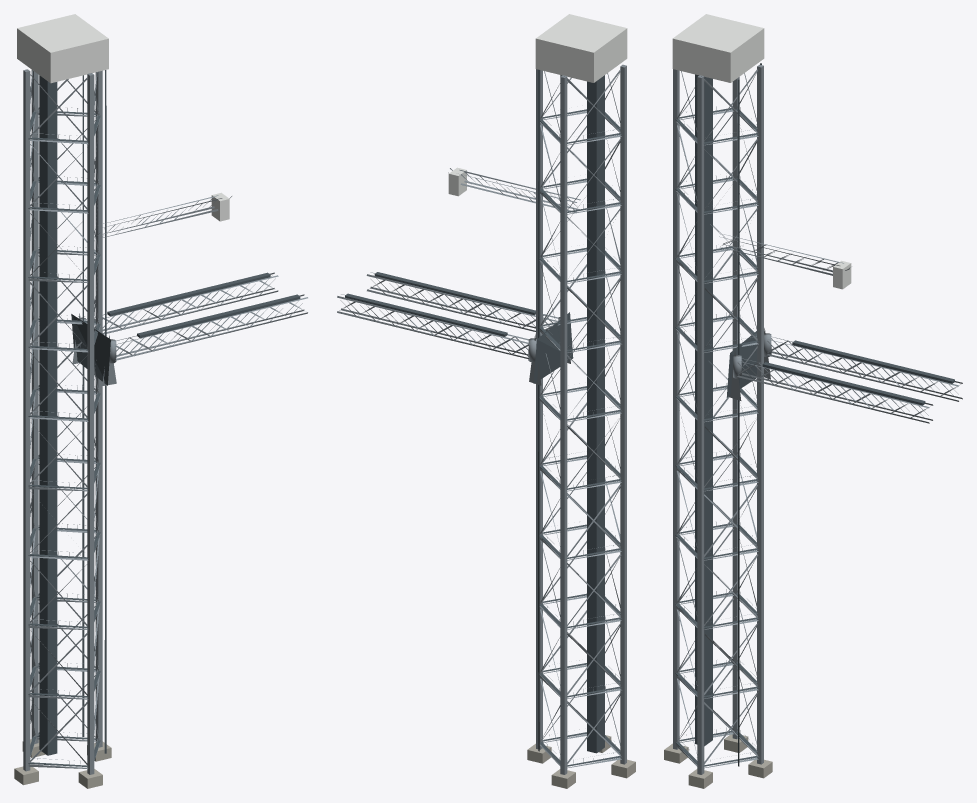
File: tower_b_lod1.glb
3 views of the same model, side by side, from view 1: azimuth 30°, elevation 25°; view 2: azimuth 150°, elevation 25°; view 3: azimuth 330°, elevation 25° (orthographic).
Visible parts, largest first — view 1: TowerStructure, ArmTruss_R, ArmTruss_L, CarriageFrame, QDTruss; view 2: TowerStructure, ArmTruss_L, ArmTruss_R, CarriageFrame, QDTruss; view 3: TowerStructure, ArmTruss_R, ArmTruss_L, QDTruss, CarriageFrame.
Part boxes in pixels (x1,y1,x2,y2): TowerStructure: [14, 14, 111, 788]; ArmTruss_R: [109, 294, 307, 363]; ArmTruss_L: [80, 272, 278, 334]; CarriageFrame: [71, 313, 116, 386]; QDTruss: [97, 192, 231, 238]; TowerStructure: [527, 14, 635, 788]; ArmTruss_L: [337, 293, 536, 362]; ArmTruss_R: [366, 272, 560, 331]; CarriageFrame: [529, 312, 573, 385]; QDTruss: [448, 167, 580, 212]; TowerStructure: [664, 14, 772, 788]; ArmTruss_R: [733, 355, 933, 423]; ArmTruss_L: [764, 333, 962, 401]; QDTruss: [719, 234, 851, 289]; CarriageFrame: [726, 328, 770, 400].
Size of the model in its own units: 56.68 by 144 by 19.46.
Materials: 4 (1 with a texture image).
